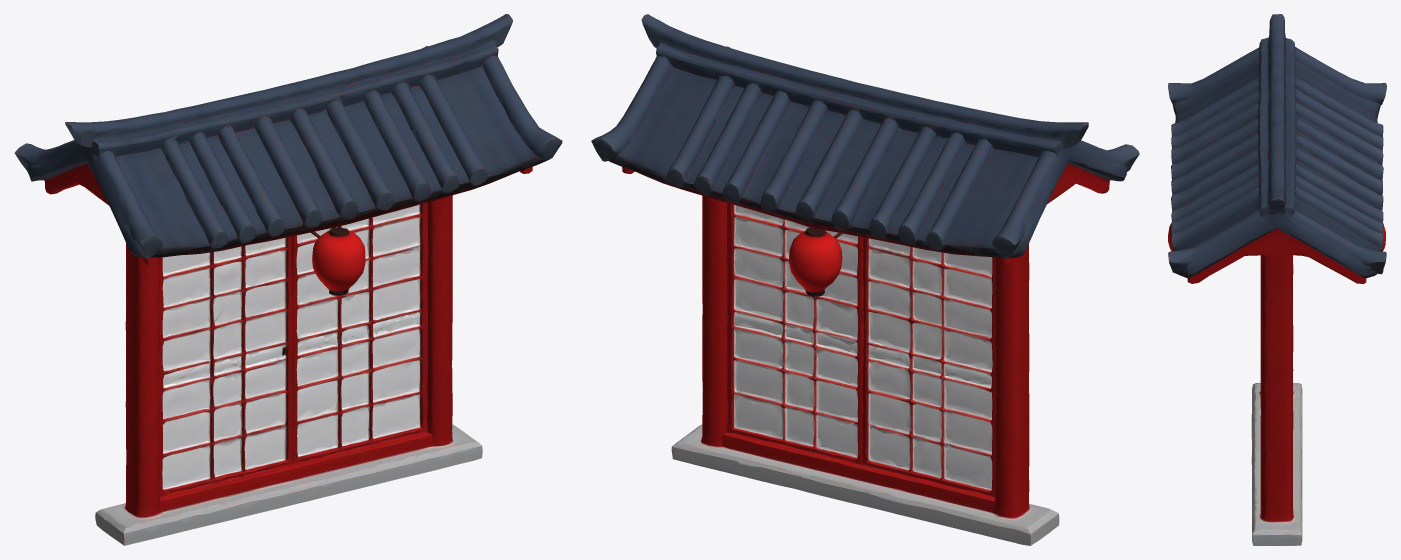
File: bay_temple.glb
The picture shows the model from 3 angles, left to right: view 1: azimuth 30°, elevation 25°; view 2: azimuth 150°, elevation 25°; view 3: azimuth 270°, elevation 25°; orthographic projection. The views are drawn at different scales.
Parts seen in each view (by area): view 1: Mesh; view 2: Mesh; view 3: Mesh.
Part boxes in pixels (x1,y1,x2,y2): Mesh: (14, 14, 562, 545); Mesh: (591, 14, 1139, 545); Mesh: (1168, 14, 1386, 545).
Size of the model in its own units: 1.9 by 1.74 by 0.9442.
1 material, 1 textured.
